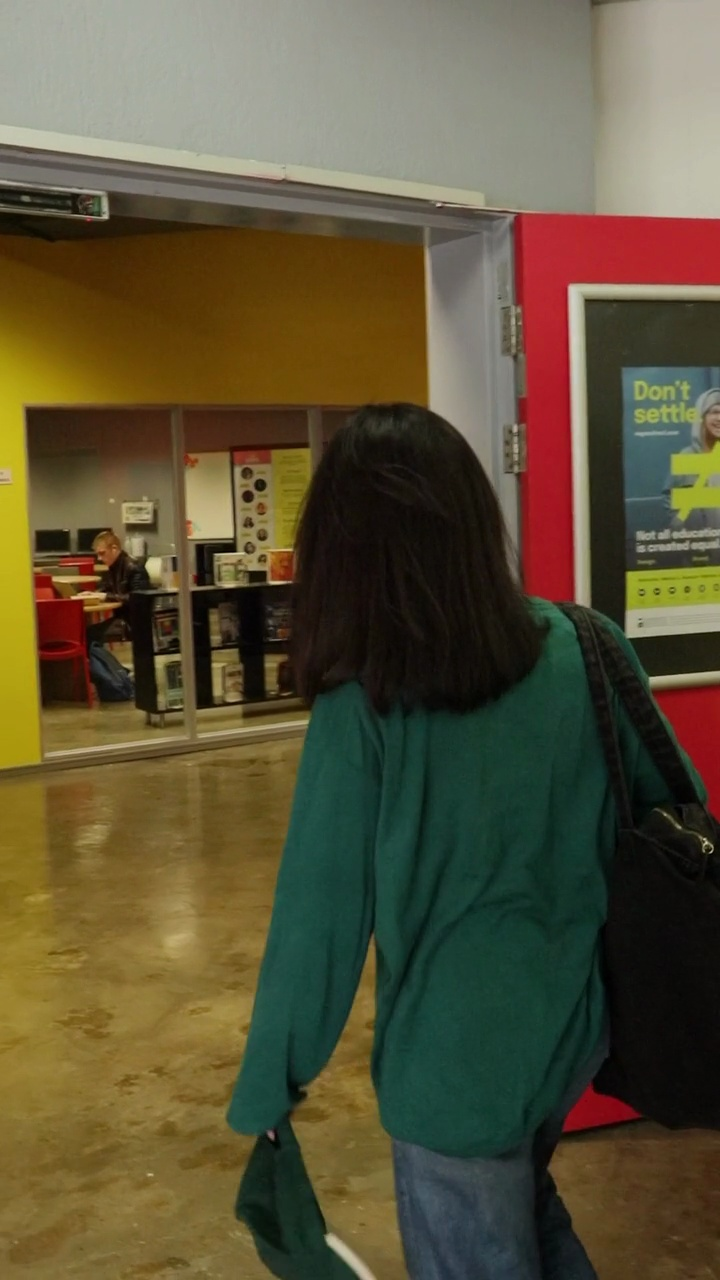dallah: (146, 839, 687, 1280)
electronics: (0, 139, 447, 748), (143, 134, 404, 749), (14, 391, 220, 733)
perfume_bottle: (239, 0, 720, 669), (436, 2, 720, 650), (591, 305, 720, 867)
